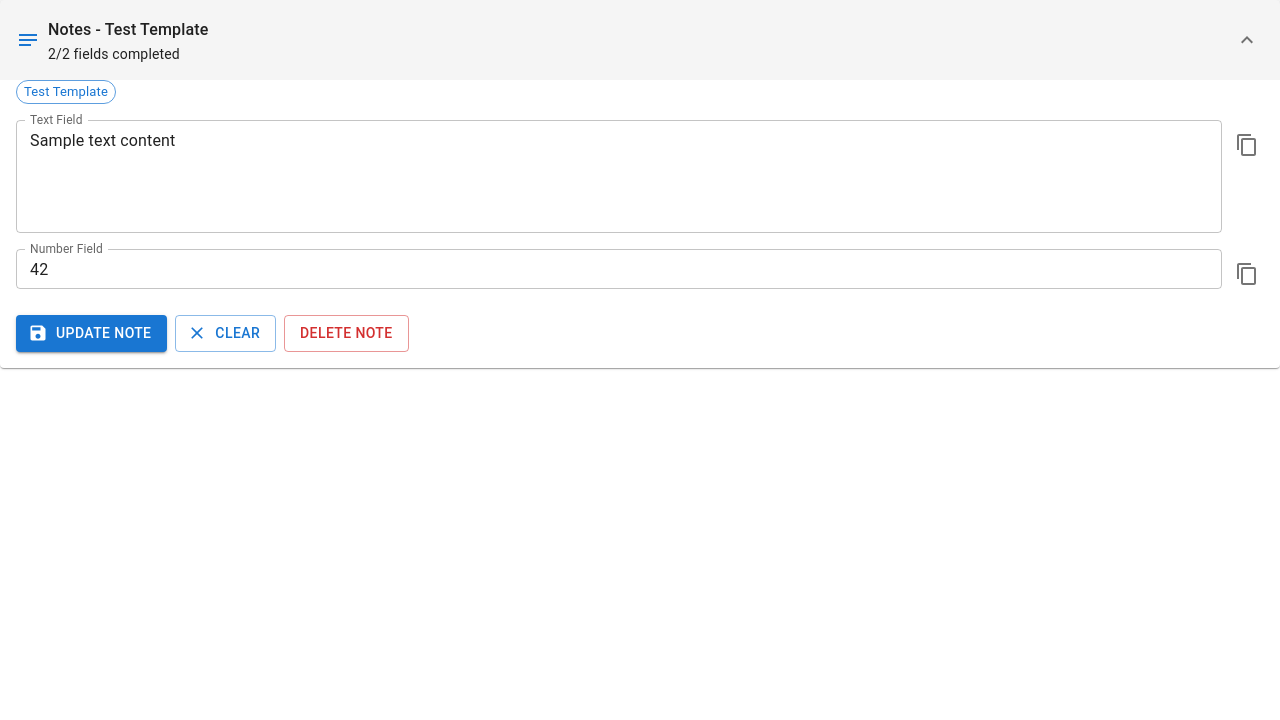
Test: NoteEditor Copy Functionality › copies number field content as string
The image size is (1280, 720).
Click the button titled "Copy Number Field content". click: click(1247, 274)
box: top-left (1230, 257), bottom-right (1264, 291)
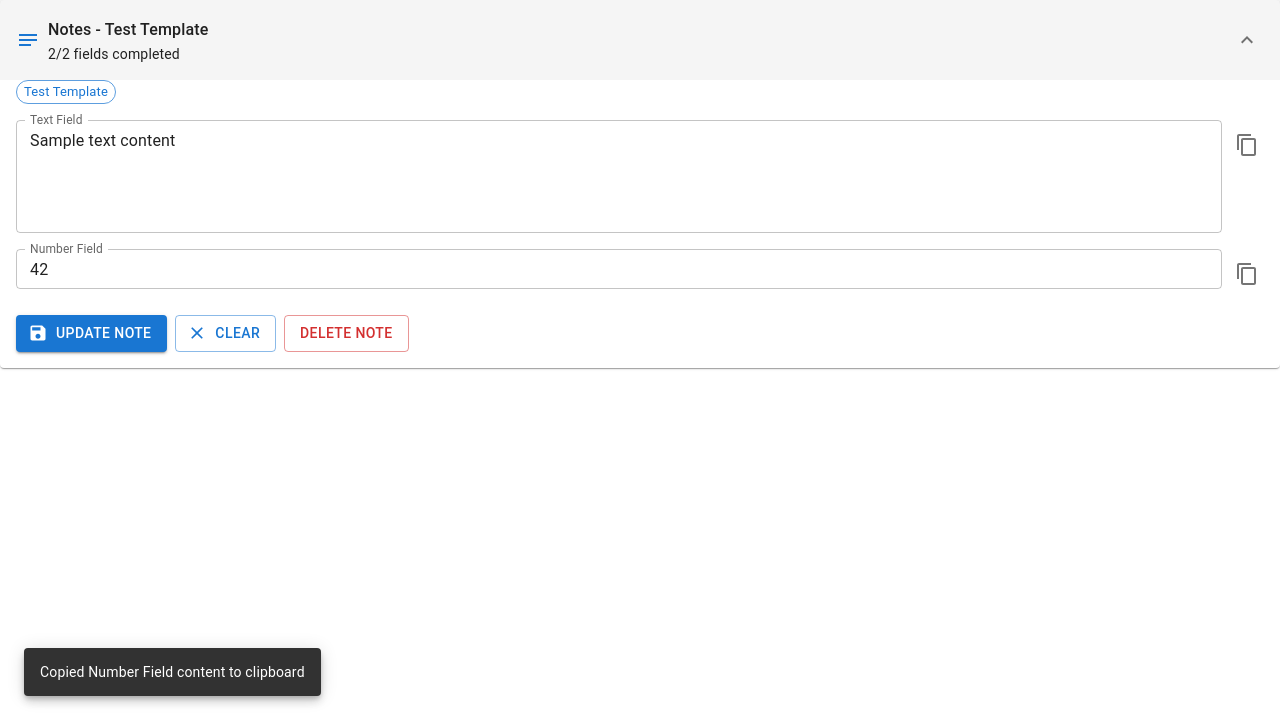
Check: the text "Copied Number Field content to clipboard" is shown, box top-left (40, 664), bottom-right (305, 680)
